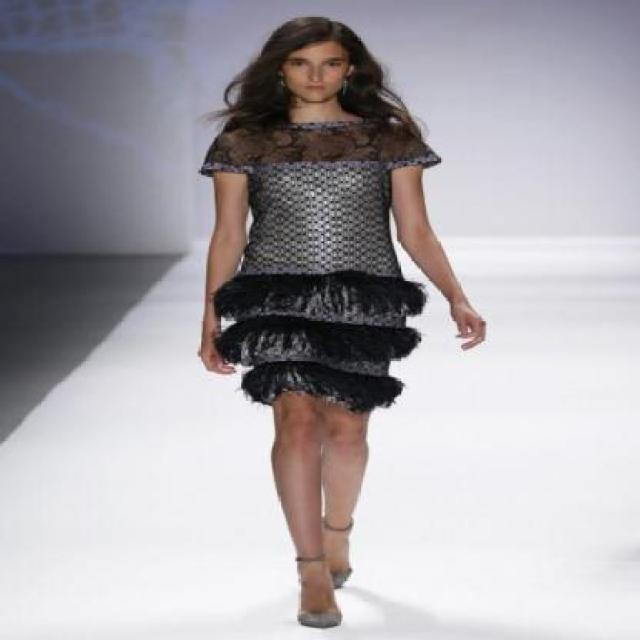Person: (193, 0, 447, 626)
